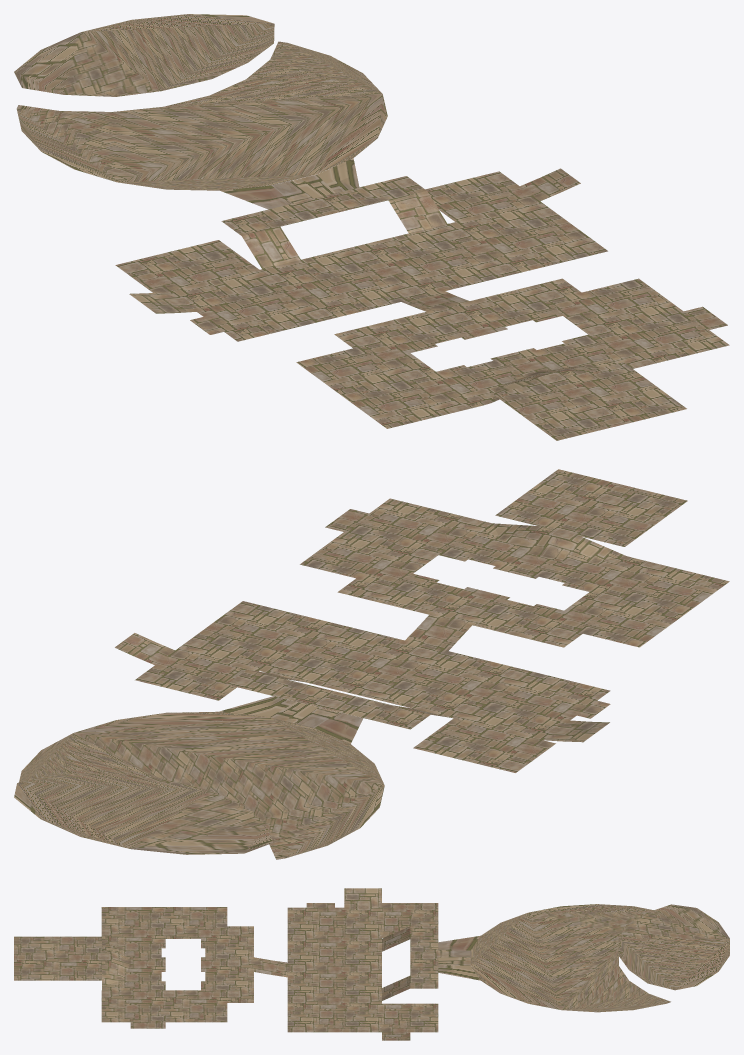
Rendered from Level2-ForbiddenTempleV2RECAST.FBX.
3 views of the same model, one above another, from view 1: azimuth 30°, elevation 25°; view 2: azimuth 150°, elevation 25°; view 3: azimuth 270°, elevation 25° (orthographic). The views are drawn at different scales.
Parts seen in each view (by area): view 1: 0_Recast; view 2: 0_Recast; view 3: 0_Recast.
Part boxes in pixels (x1,y1,x2,y2): 0_Recast: (14, 14, 729, 440); 0_Recast: (14, 469, 729, 859); 0_Recast: (14, 888, 729, 1040).
Bounding box in the file's own units: 5100 × 378 × 10137.
